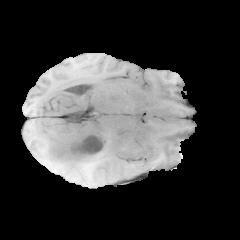glioma: (42, 131, 107, 171)
